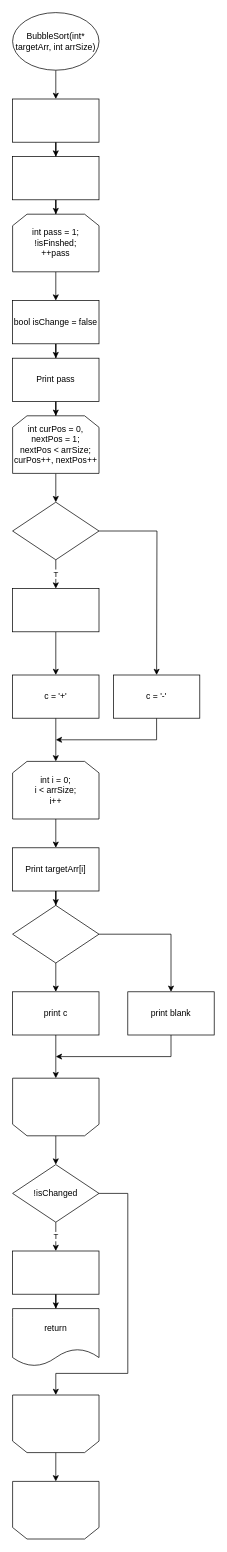
Image size: 227x1552. Some labels were removed from this diagram. The shapes that lost their labels are listed below. From the top down, each one's centre as x and y in pixels, then its label:
At point 55,120: "bool isFinished = false".
At point 55,178: "char c".
At point 55,530: "targetArr[curPos] > targetArr[nextPos]".
At point 55,610: "Swap (curPosNum, nextPosNum)".
At point 55,934: "i == curPos".
At point 55,1272: "isFinished = !isChanged".
